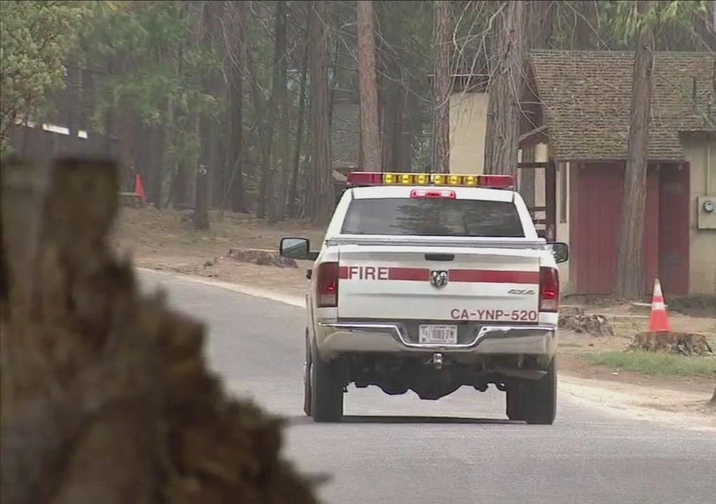car: (280, 168, 571, 427)
